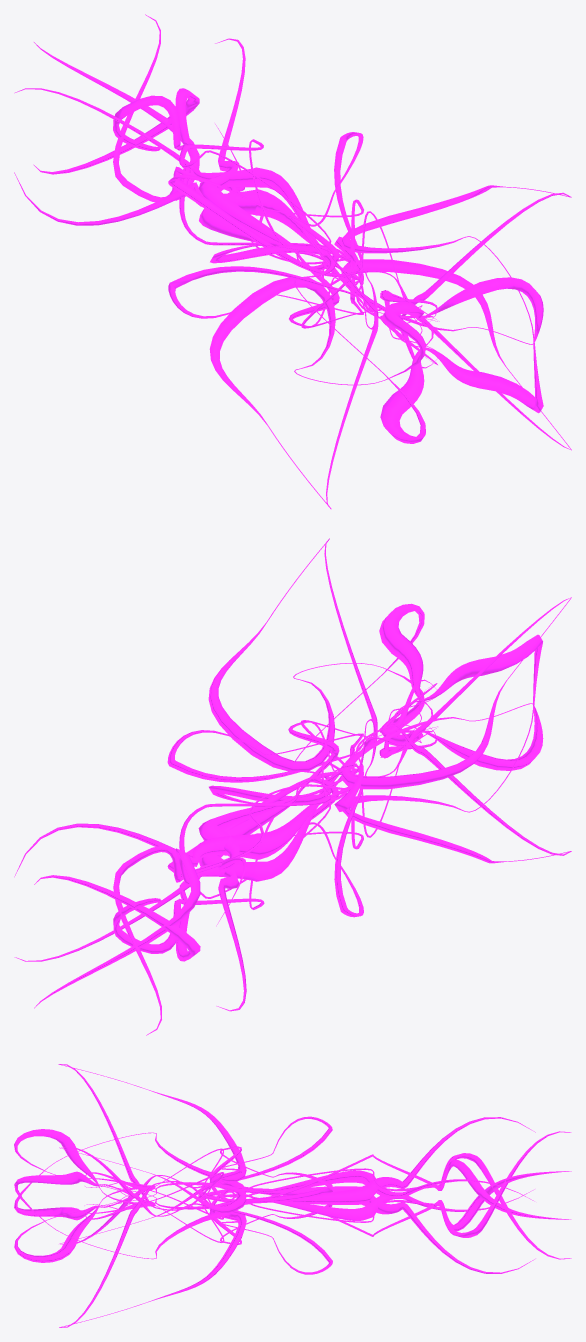
Rendered from wormhead.fbx.
3 views of the same model, one above another, from view 1: azimuth 30°, elevation 25°; view 2: azimuth 150°, elevation 25°; view 3: azimuth 270°, elevation 25° (orthographic). The views are drawn at different scales.
Parts seen in each view (by area): view 1: worm; view 2: worm; view 3: worm.
Part boxes in pixels (left/top/right/bottom): worm: left=14, top=14, right=571, bottom=509; worm: left=14, top=538, right=571, bottom=1035; worm: left=14, top=1064, right=571, bottom=1327.
Bounding box in the file's own units: 13.75 × 12.27 × 34.29.
